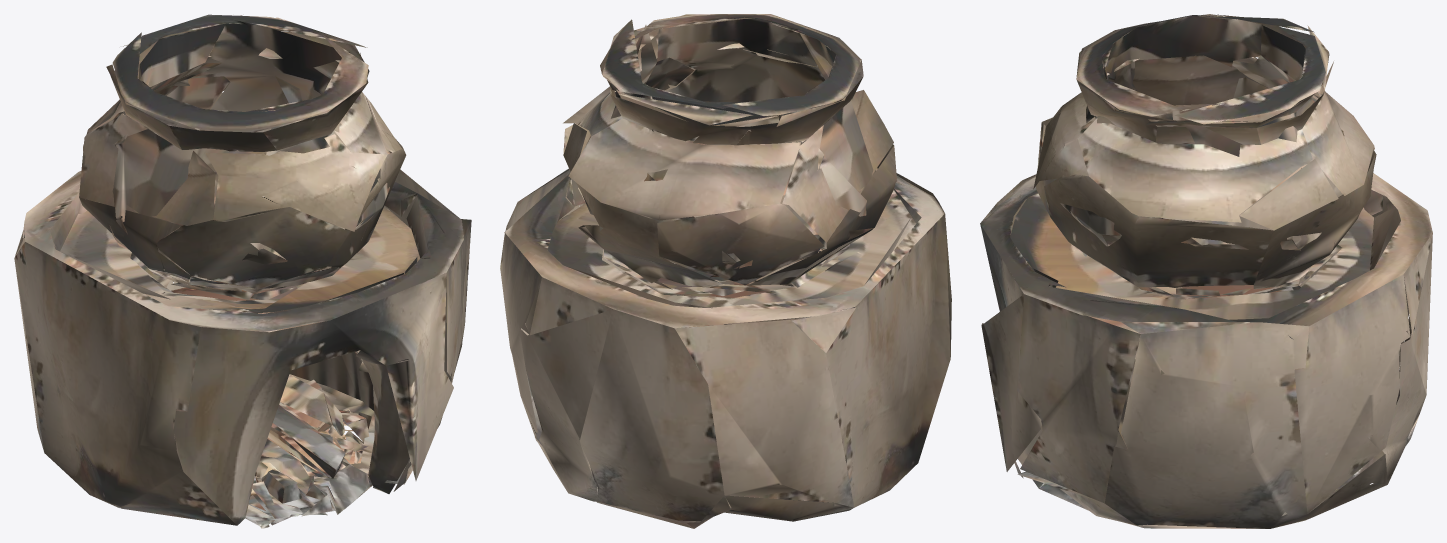
The model's file is turtle-mt-clay-stove.glb.
3 views of the same model, side by side, from view 1: azimuth 30°, elevation 25°; view 2: azimuth 150°, elevation 25°; view 3: azimuth 270°, elevation 25° (orthographic). The views are drawn at different scales.
Visible parts, largest first — view 1: Mesh_0; view 2: Mesh_0; view 3: Mesh_0.
Part boxes in pixels (bbox=[...]): Mesh_0: bbox=[14, 14, 471, 528]; Mesh_0: bbox=[500, 14, 951, 528]; Mesh_0: bbox=[980, 14, 1432, 528].
Size of the model in its own units: 0.0588 by 0.0607 by 0.0614.
1 material, 1 textured.
